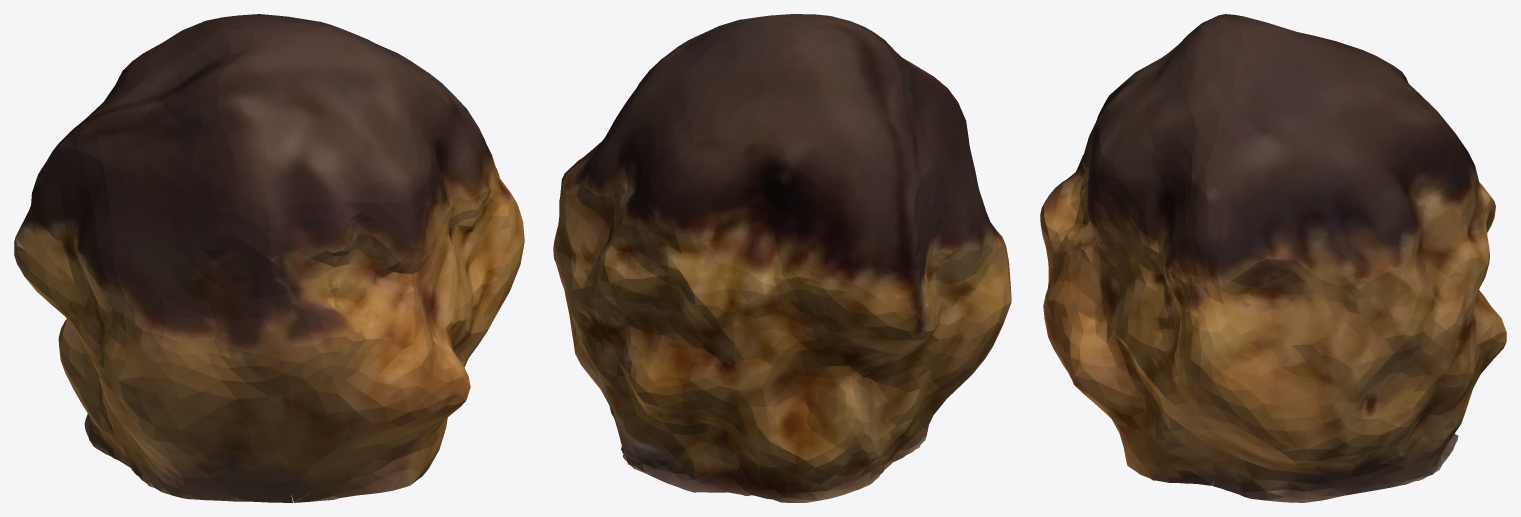
Rendered from peanut-butter-rice-krispie-balls.gltf.
The picture shows the model from 3 angles, left to right: view 1: azimuth 30°, elevation 25°; view 2: azimuth 150°, elevation 25°; view 3: azimuth 270°, elevation 25°; orthographic projection. The views are drawn at different scales.
Bounding box in the file's own units: 0.182 × 0.1732 × 0.1824.
1 material, 1 textured.
